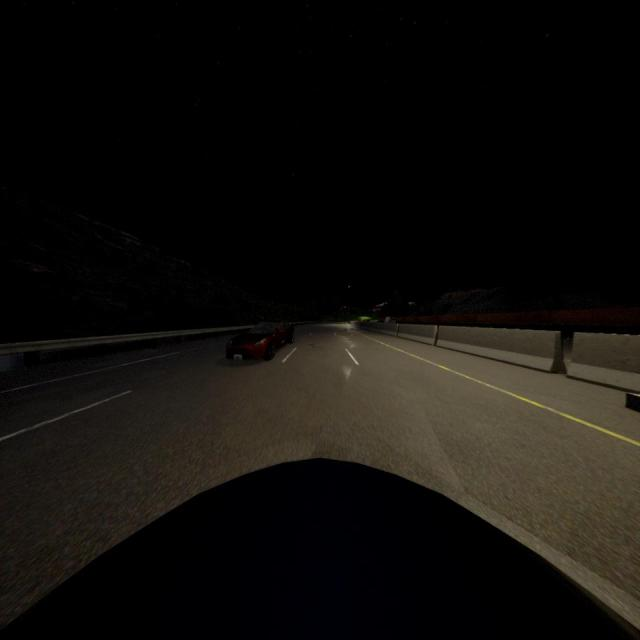Vehicle: (1, 458, 640, 640), (225, 322, 294, 360)
